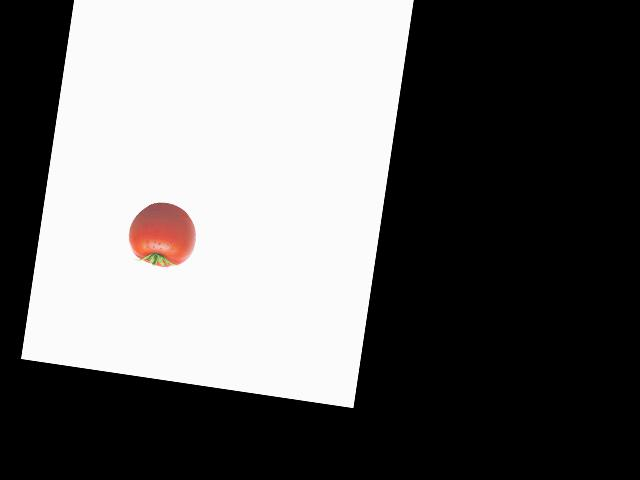tomato: (125, 198, 192, 269)
